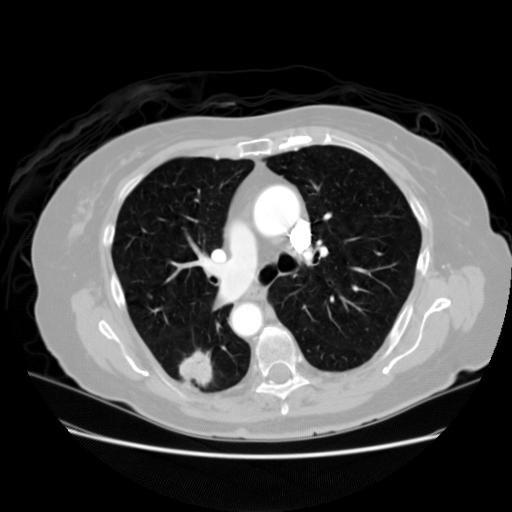nodule: (180, 349, 219, 388)
